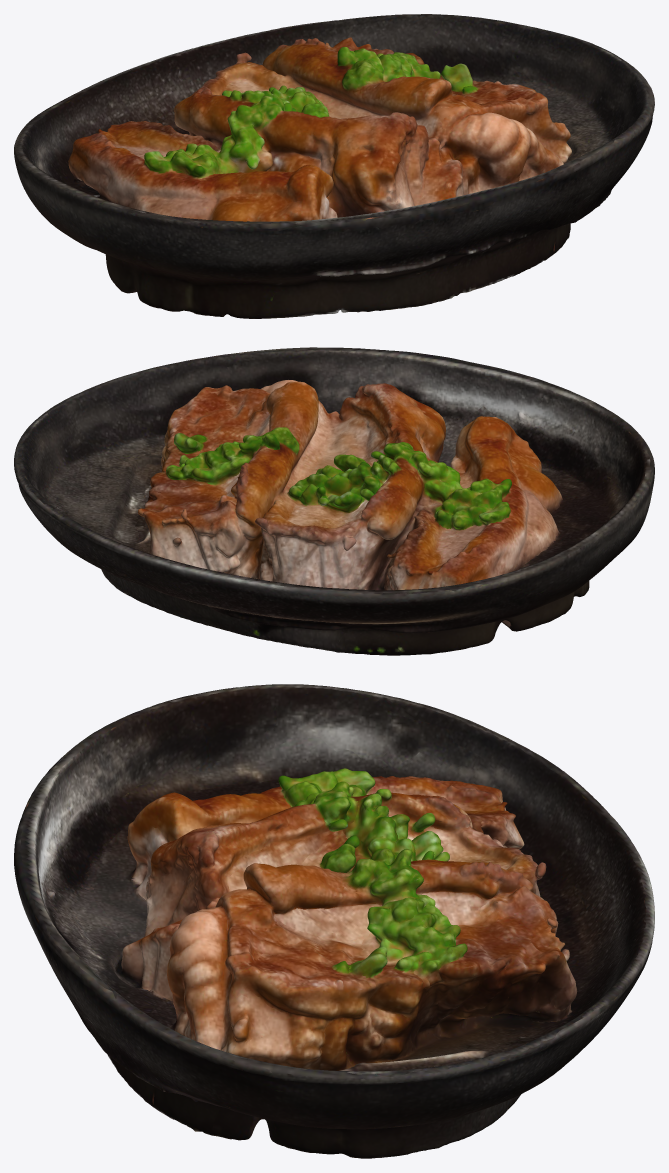
The model's file is picanha.glb.
3 renders of one model, top to bottom at view 1: azimuth 30°, elevation 25°; view 2: azimuth 150°, elevation 25°; view 3: azimuth 270°, elevation 25°, orthographic. The views are drawn at different scales.
Visible parts, largest first — view 1: Mesh_0; view 2: Mesh_0; view 3: Mesh_0.
Part boxes in pixels (<box>): Mesh_0: <box>14,14,654,318</box>; Mesh_0: <box>14,347,654,655</box>; Mesh_0: <box>14,684,654,1158</box>.
Size of the model in its own units: 0.28 by 0.0753 by 0.2141.
Materials: 1 (1 with a texture image).
